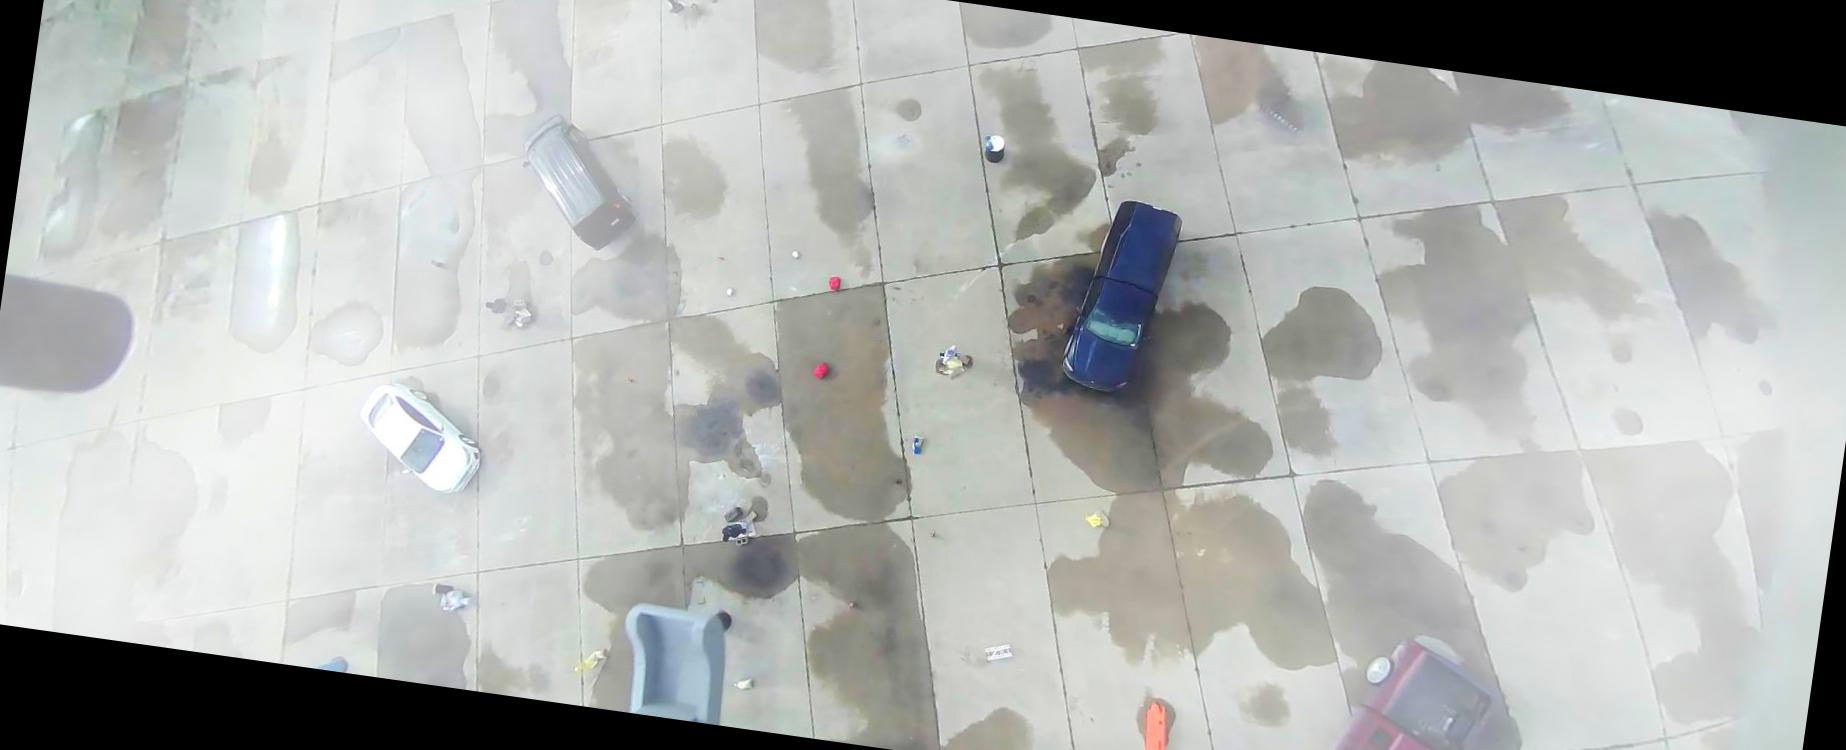vehicle: (1292, 624, 1507, 749), (1058, 193, 1185, 399), (511, 110, 649, 256), (351, 377, 490, 498)
